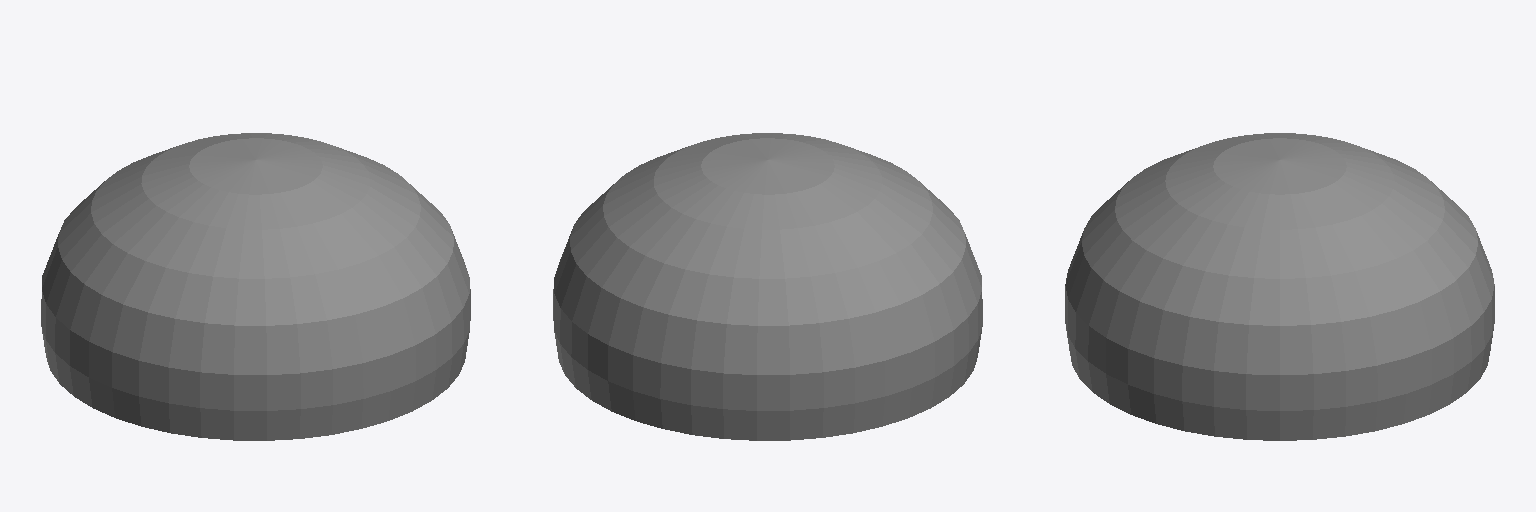
File: environment.obj
3 renders of one model, left to right at view 1: azimuth 30°, elevation 25°; view 2: azimuth 150°, elevation 25°; view 3: azimuth 270°, elevation 25°, orthographic.
Visible parts, largest first — view 1: Object001; view 2: Object001; view 3: Object001.
Part boxes in pixels (bbox=[...]): Object001: bbox=[41, 133, 470, 440]; Object001: bbox=[553, 133, 982, 440]; Object001: bbox=[1065, 133, 1494, 440].
Bounding box in the file's own units: 93.18 × 45.97 × 93.18.